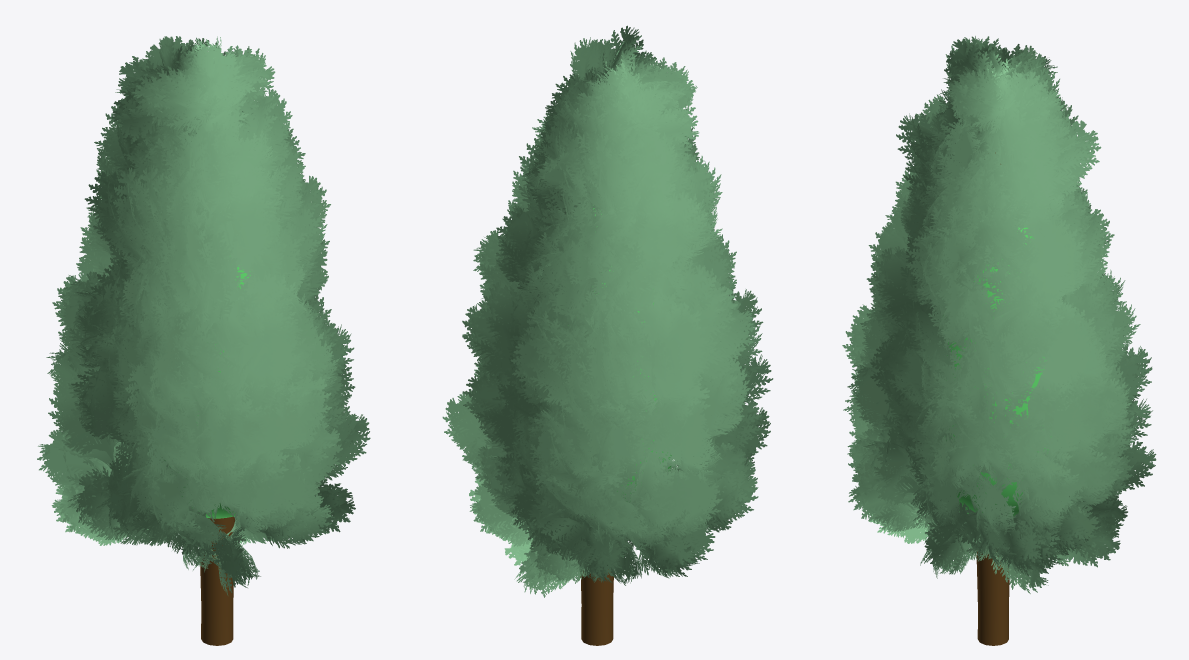
The model's file is Arbre Test.fbx.
The picture shows the model from 3 angles, left to right: view 1: azimuth 30°, elevation 25°; view 2: azimuth 150°, elevation 25°; view 3: azimuth 270°, elevation 25°; orthographic projection. The views are drawn at different scales.
Visible parts, largest first — view 1: Plane.007, Cylinder; view 2: Plane.007, Cylinder; view 3: Plane.007, Cylinder, Sphere.002.
Boxes of the visible parts, x1,y1,x2,y2 form: Plane.007: (37, 36, 370, 595); Cylinder: (200, 516, 235, 645); Plane.007: (442, 25, 773, 597); Cylinder: (580, 569, 613, 645); Plane.007: (842, 36, 1156, 593); Cylinder: (976, 152, 1009, 645); Sphere.002: (943, 227, 1051, 515).
Bounding box in the file's own units: 260 × 502 × 262.
